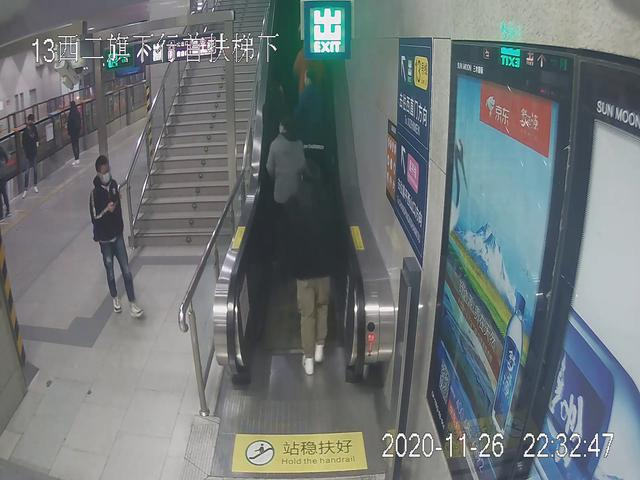person: (279, 164, 338, 373), (85, 155, 144, 314), (268, 116, 308, 239), (18, 116, 45, 201), (68, 101, 85, 166)
